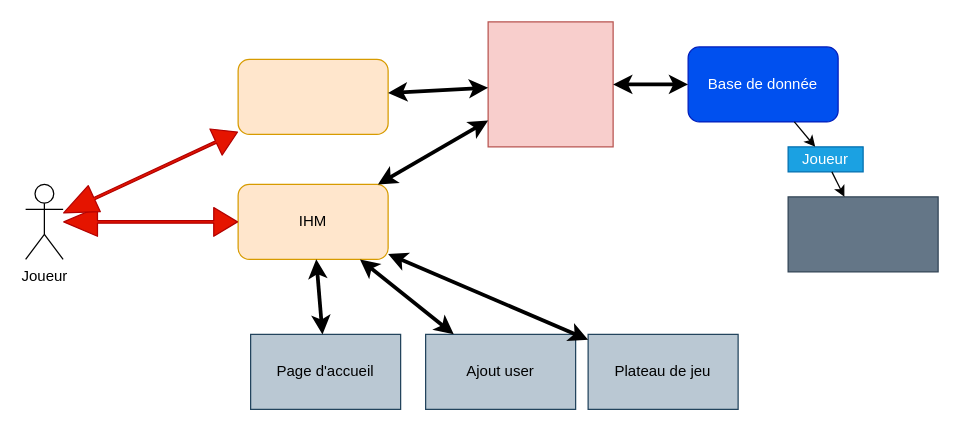
Some shapes in this 960 by 431 pixel diagram are drawn without their labels. Each missing label, with the centre of its shape:
"Noyau" goes at (550,84).
"Pseudo Victoire Défaite" goes at (862,234).
"Terminal" goes at (312,96).
